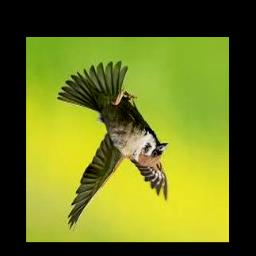Sparrow: (57, 61, 168, 232)
